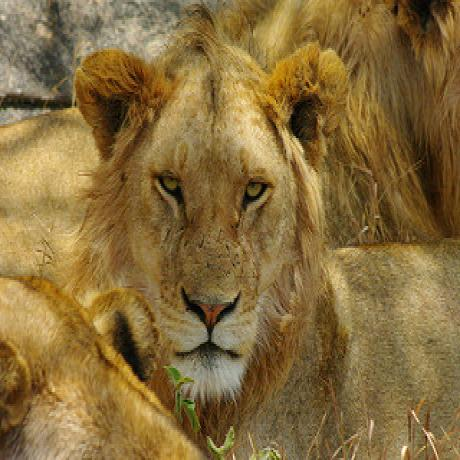Lion: (65, 31, 460, 460)
